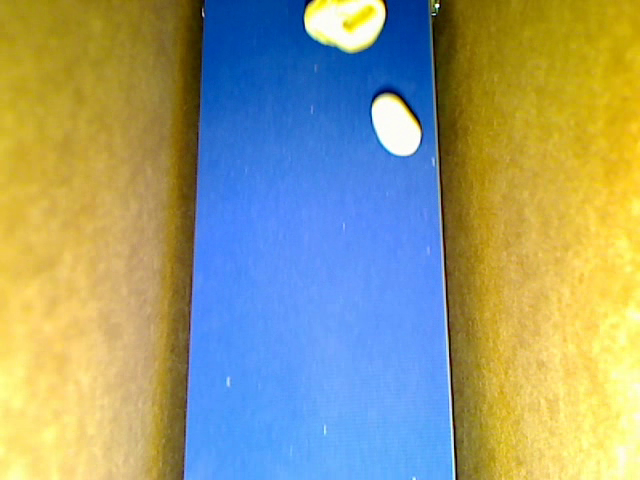tortellini: (303, 1, 387, 54)
